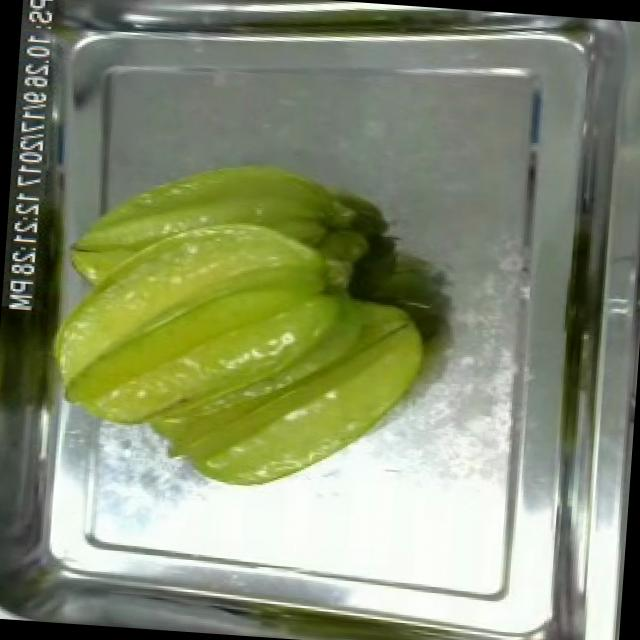fruit: (34, 148, 430, 516)
